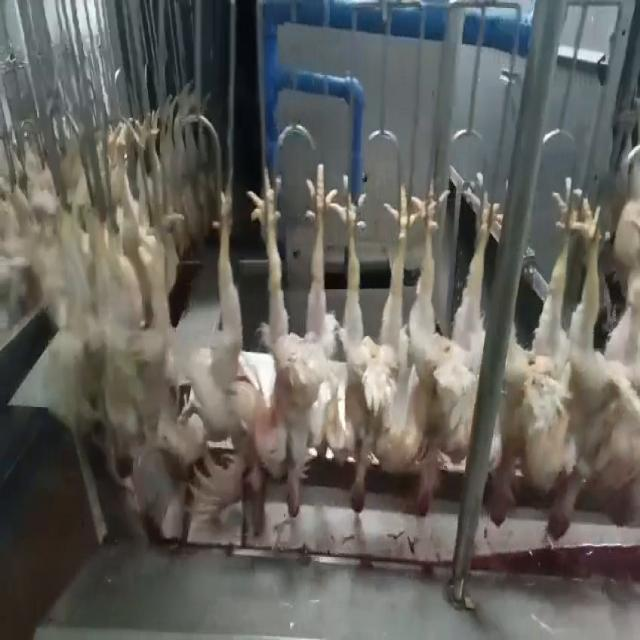chicken: (546, 182, 636, 539), (325, 169, 417, 514), (404, 172, 494, 523), (252, 157, 334, 521), (482, 243, 573, 532), (187, 181, 239, 526)
